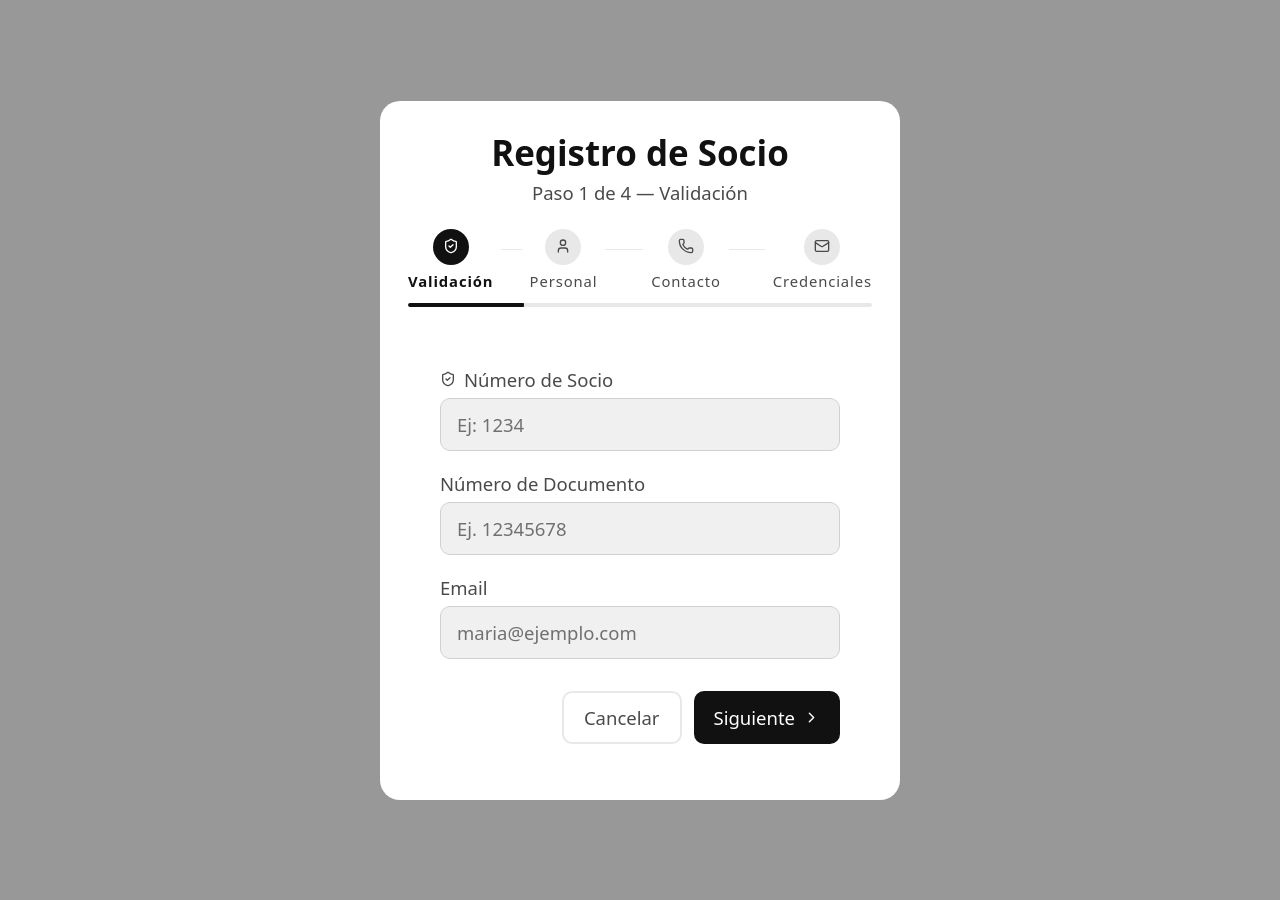
Test: RegistroSocioForm › avanza al paso 2 cuando la validación de identidad es exitosa
Type "1000" into the field with placeholder "Ej: 1234". click: (640, 424)
box: [440,398,840,450]
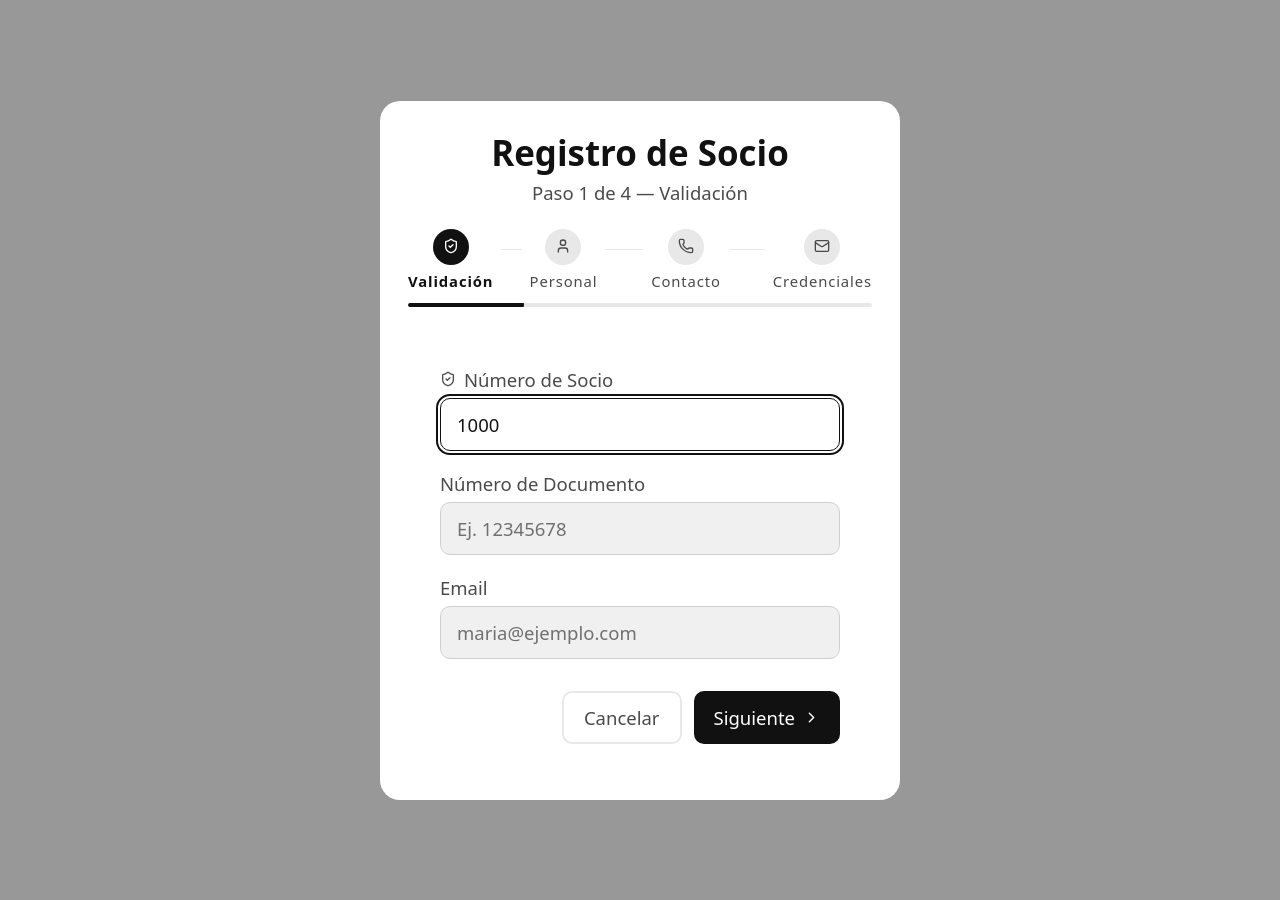
Type "12345678" into the field with placeholder "Ej. 12345678". click: (640, 528)
box: [440,502,840,554]
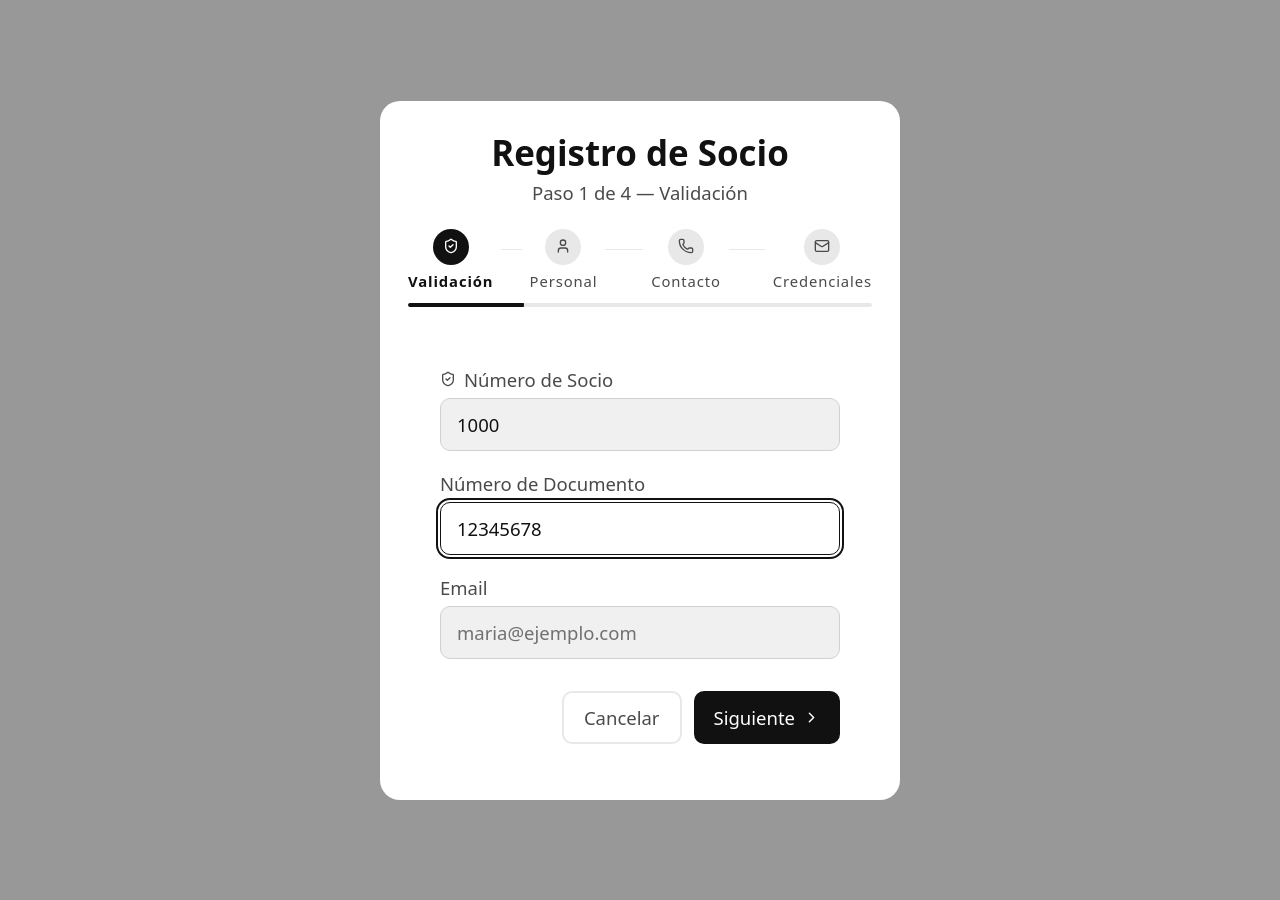
Type "juan@club.com" into the field with placeholder "maria@ejemplo.com". click: (640, 632)
box: [440,606,840,658]
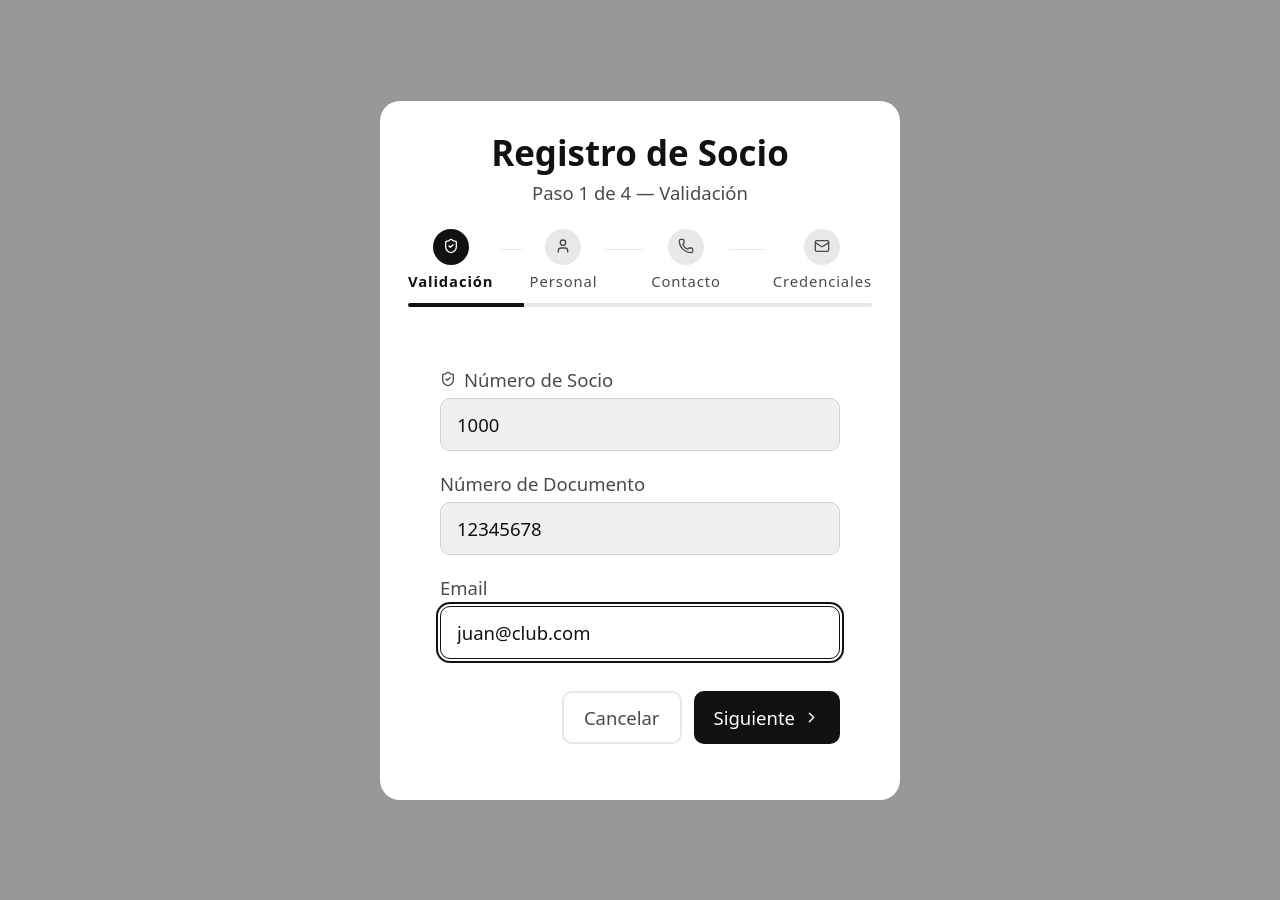
Click the button "Siguiente". click: (767, 717)
box: [694,690,840,744]
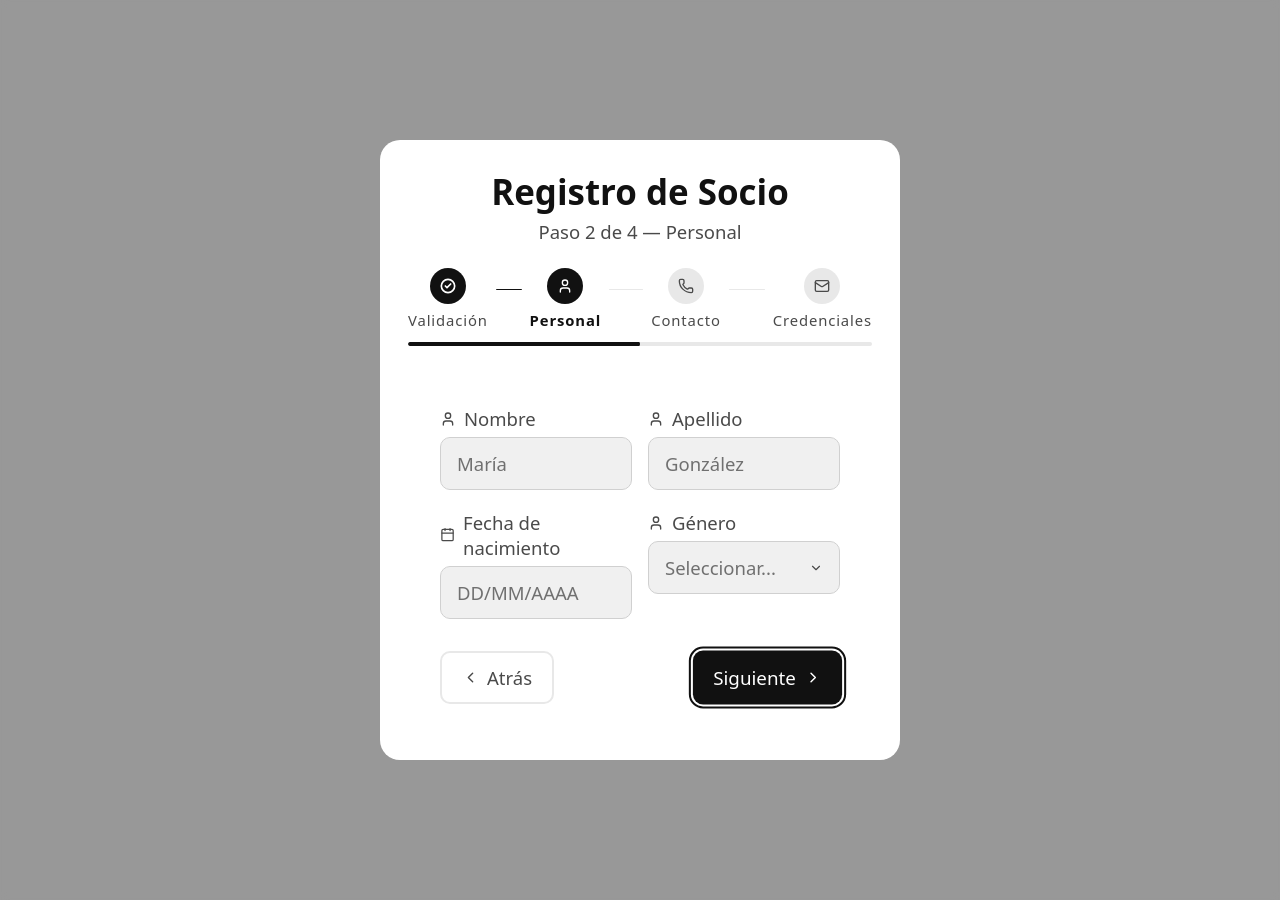
Result: the text "Paso 2 de 4 — Personal" is shown at [538,219,742,244]
Result: the field with placeholder "María" is shown at [440,437,632,490]
